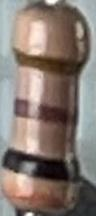Black: (3, 145, 82, 184)
Brown: (13, 96, 79, 126)
Orange: (3, 189, 77, 213)
Side-Gold: (11, 46, 90, 77)
